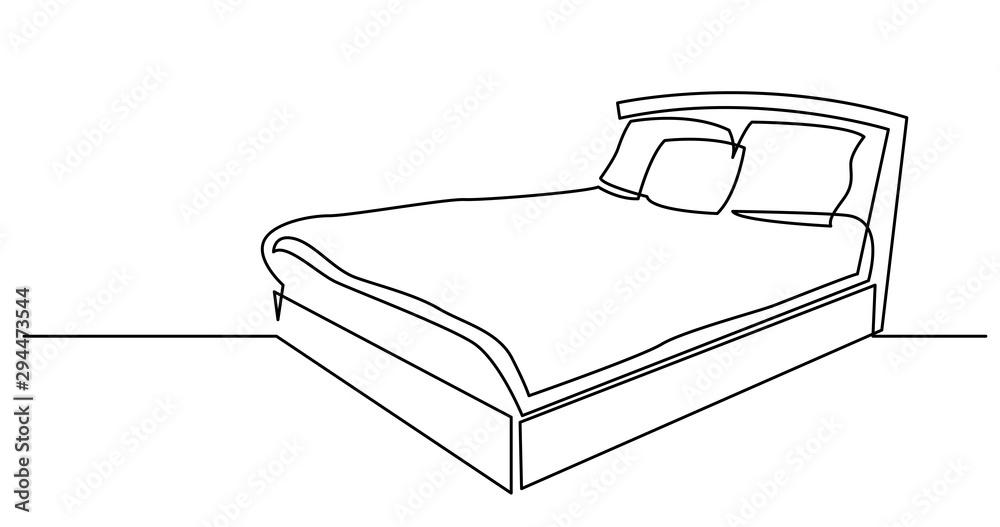bed: (369, 99, 861, 479)
